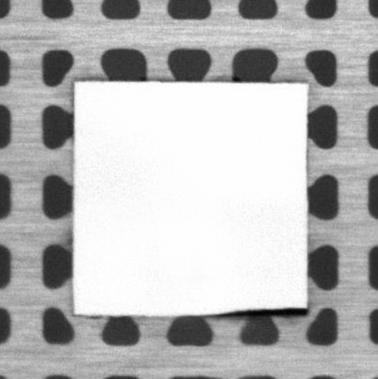DIE_BROKEN: (222, 306, 309, 317)
